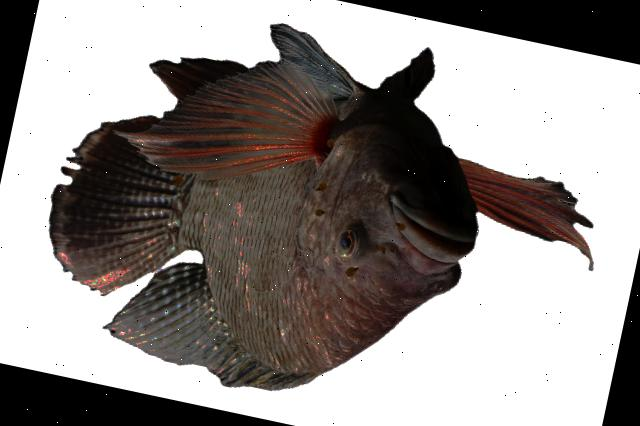Parasitic Disease: (50, 22, 591, 388)
